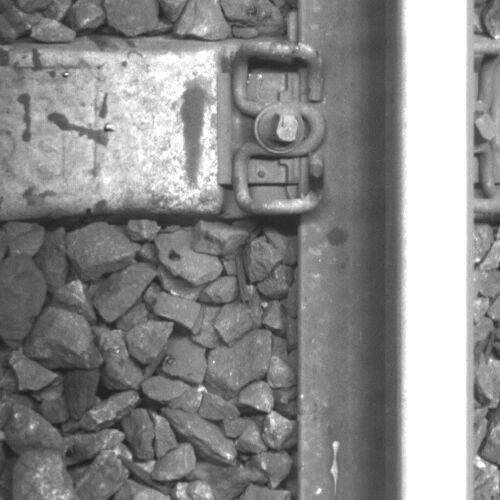rail: (399, 1, 474, 500)
tie_concr: (1, 50, 298, 206)
vossloh: (216, 38, 327, 213)
